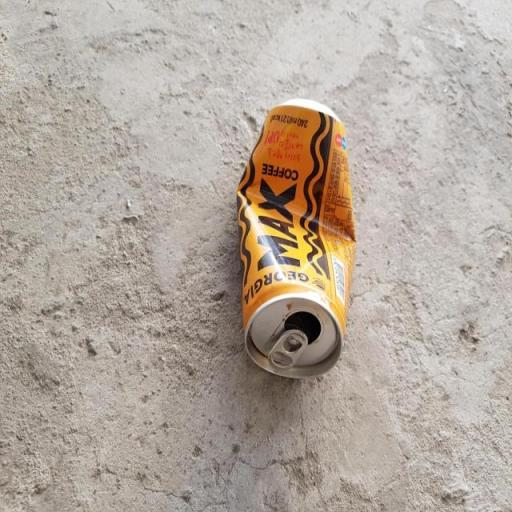metal: (214, 89, 372, 404)
